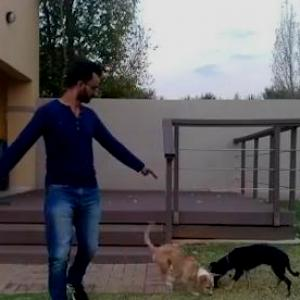land: (1, 63, 160, 299)
